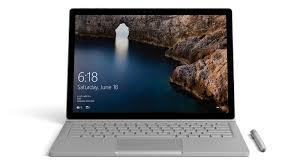Electronics: (43, 0, 280, 168)
